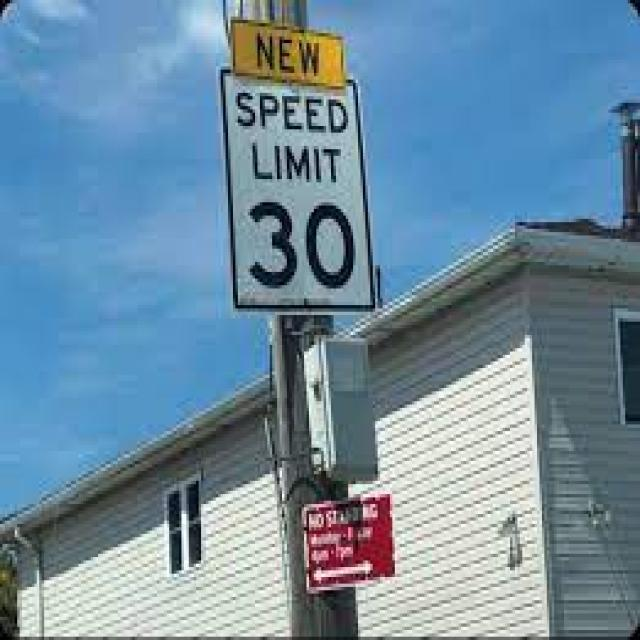speedLimit30: (214, 66, 376, 315)
